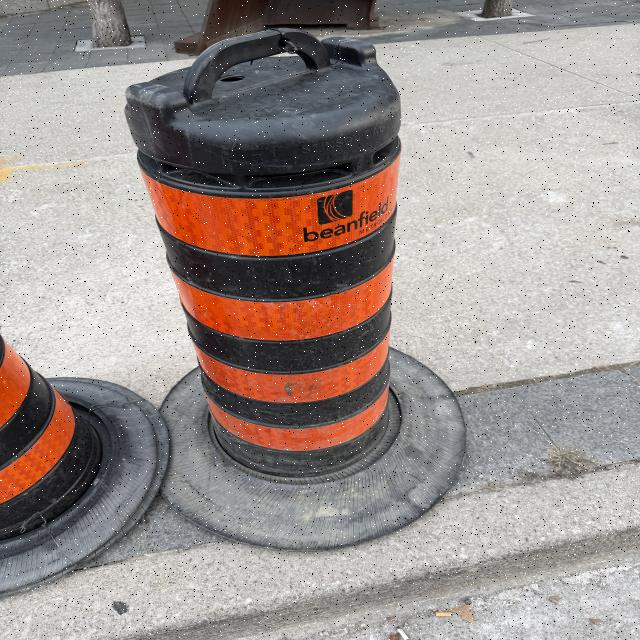Teraffic Barrel: (126, 28, 464, 548), (0, 337, 168, 596)
